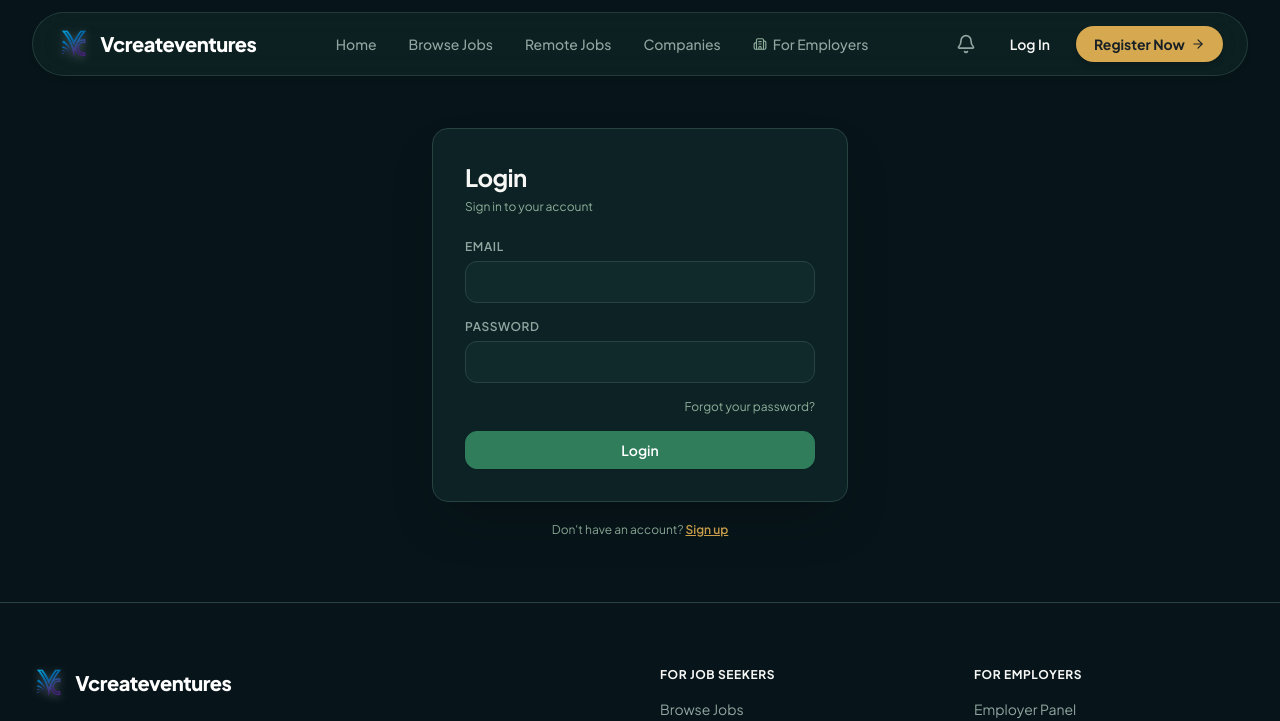
Test: login › galat password par server ka error dikhata hai
Type "candidate@example.com" into the field labelled "Email". click: x=640, y=282
box: 465,261 -> 815,303
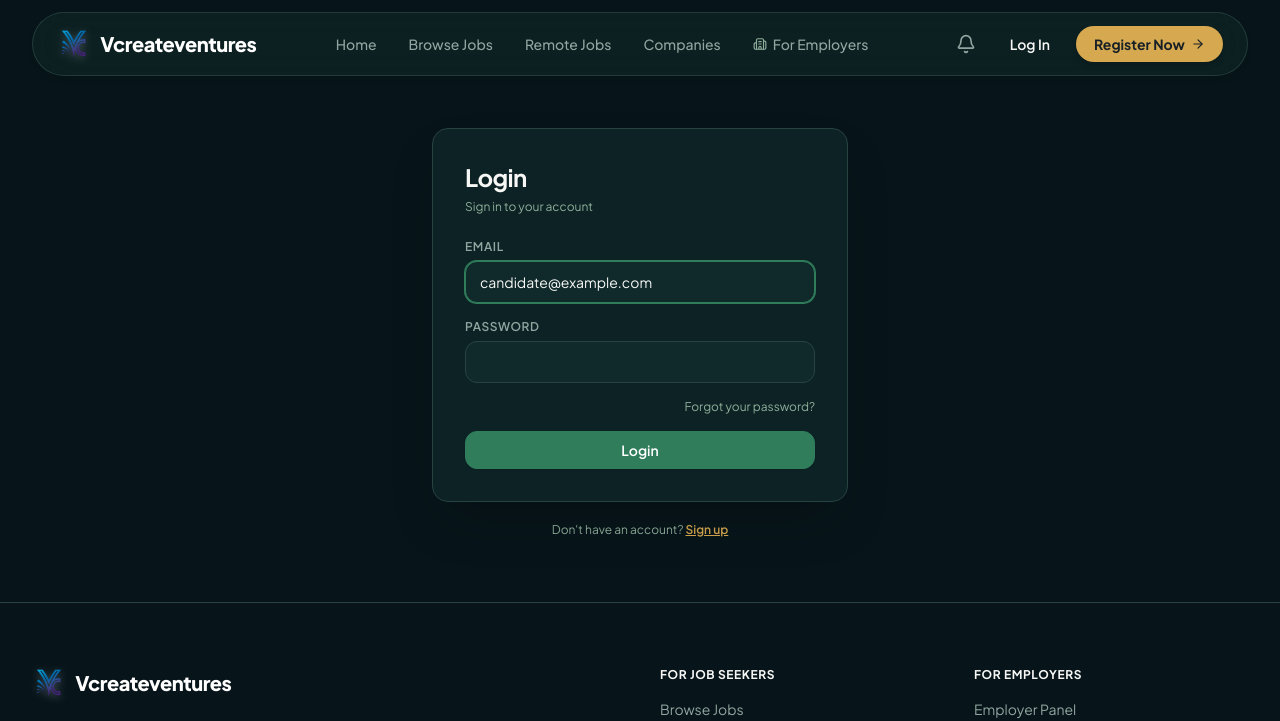
Type "wrong" into the password field labelled "Password". click: x=640, y=362
box: 465,341 -> 815,383
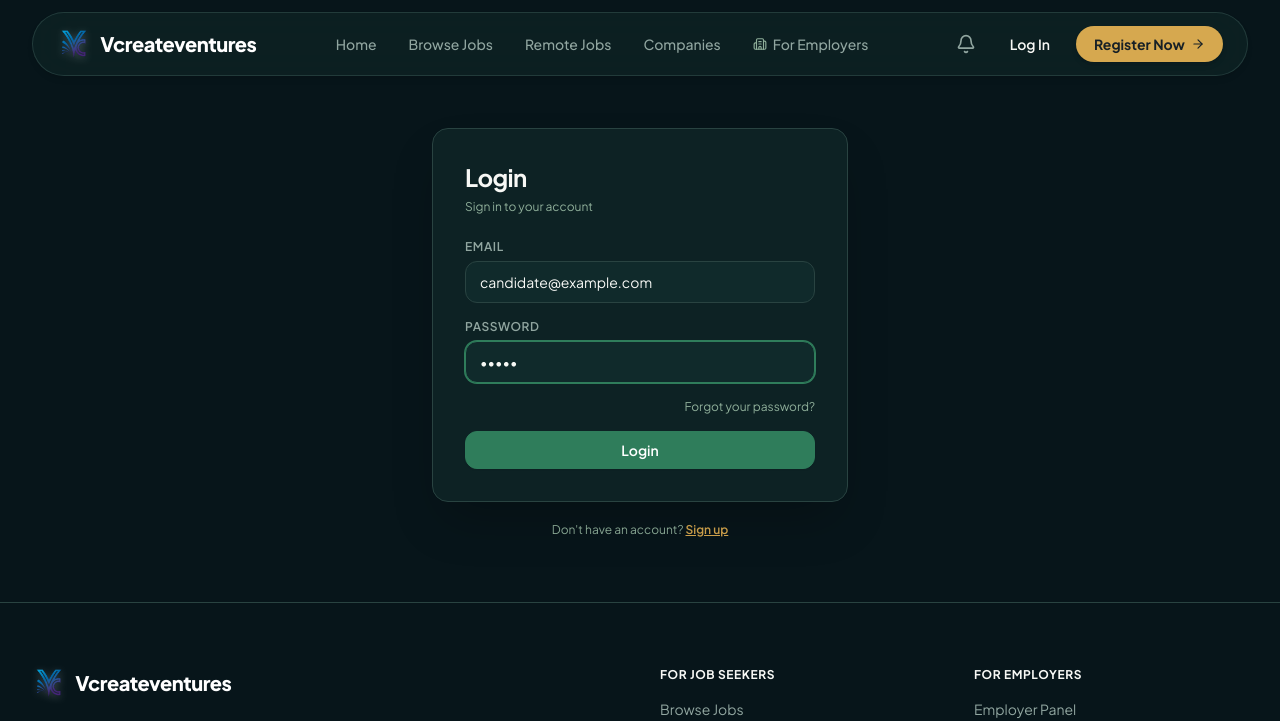
Click the button "Login". click: x=640, y=450
box: 465,431 -> 815,469
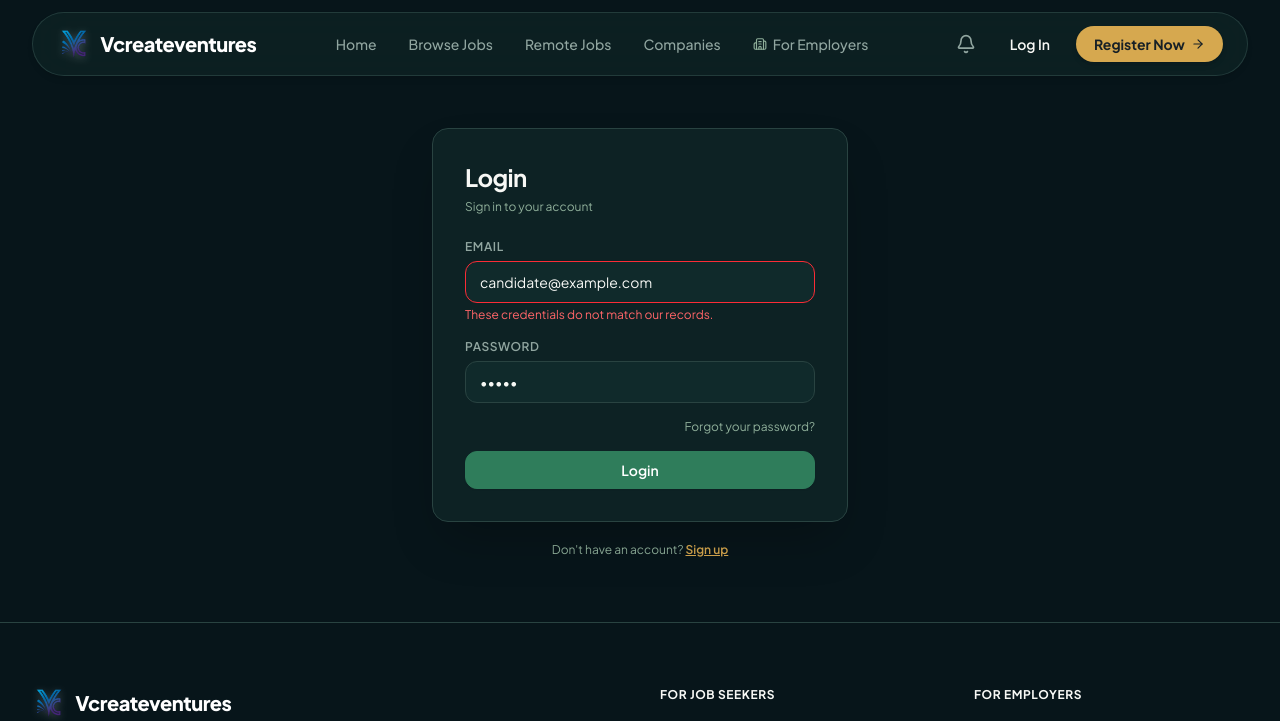
expect the text "These credentials do not match our records." is shown: met, box 465,307 -> 713,322
